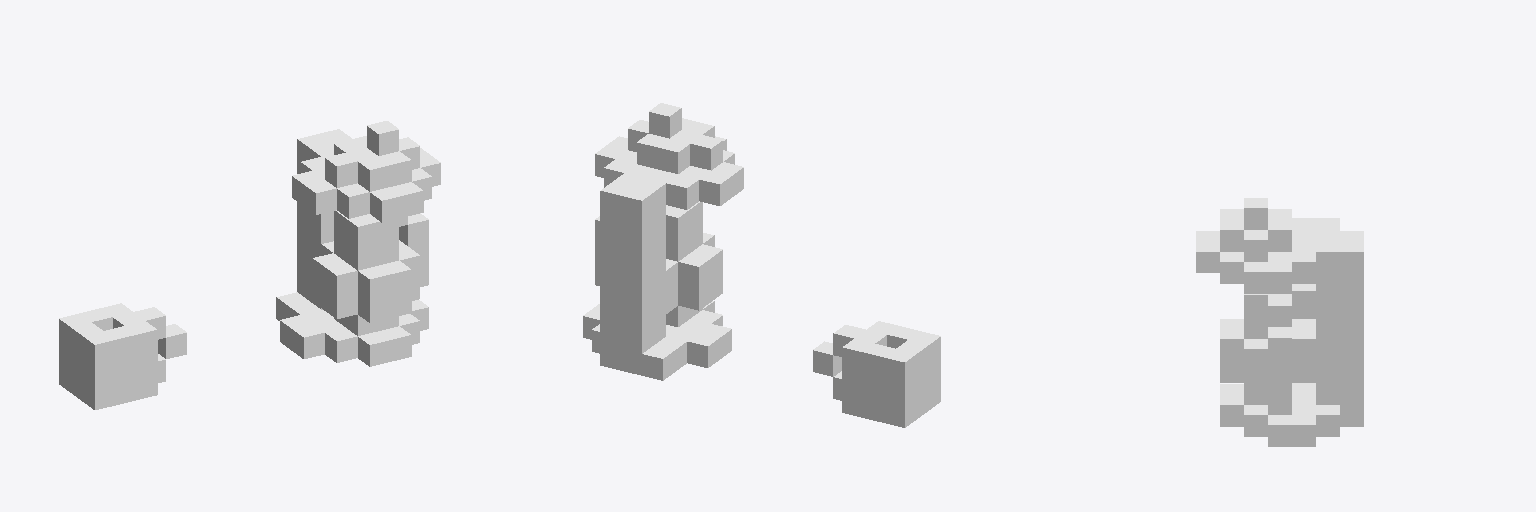
File: coffee_machine_w_mug.obj
The picture shows the model from 3 angles: view 1: azimuth 30°, elevation 25°; view 2: azimuth 150°, elevation 25°; view 3: azimuth 270°, elevation 25°; orthographic projection.
Visible parts, largest first — view 1: coffee_machine_w_mug; view 2: coffee_machine_w_mug; view 3: coffee_machine_w_mug.
Boxes of the visible parts, x1=… form: coffee_machine_w_mug: x1=59, y1=121, x2=440, y2=409; coffee_machine_w_mug: x1=583, y1=103, x2=940, y2=427; coffee_machine_w_mug: x1=1196, y1=198, x2=1363, y2=446.
Bounding box in the file's own units: 16 × 10 × 7.